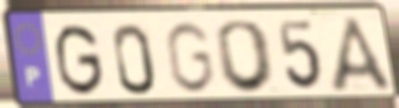0: (109, 20, 159, 97)
5: (277, 18, 325, 92)
A: (328, 14, 398, 95)
G: (162, 19, 217, 96), (53, 21, 107, 99)
O: (214, 18, 279, 96)
